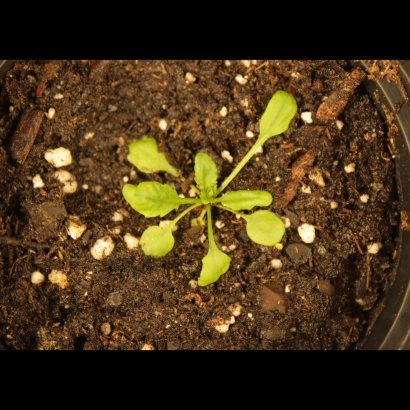leaf: (120, 177, 190, 220), (191, 236, 238, 296), (254, 87, 300, 148), (118, 131, 179, 175), (184, 148, 222, 198), (136, 217, 179, 261), (241, 209, 292, 246), (215, 185, 281, 213)
